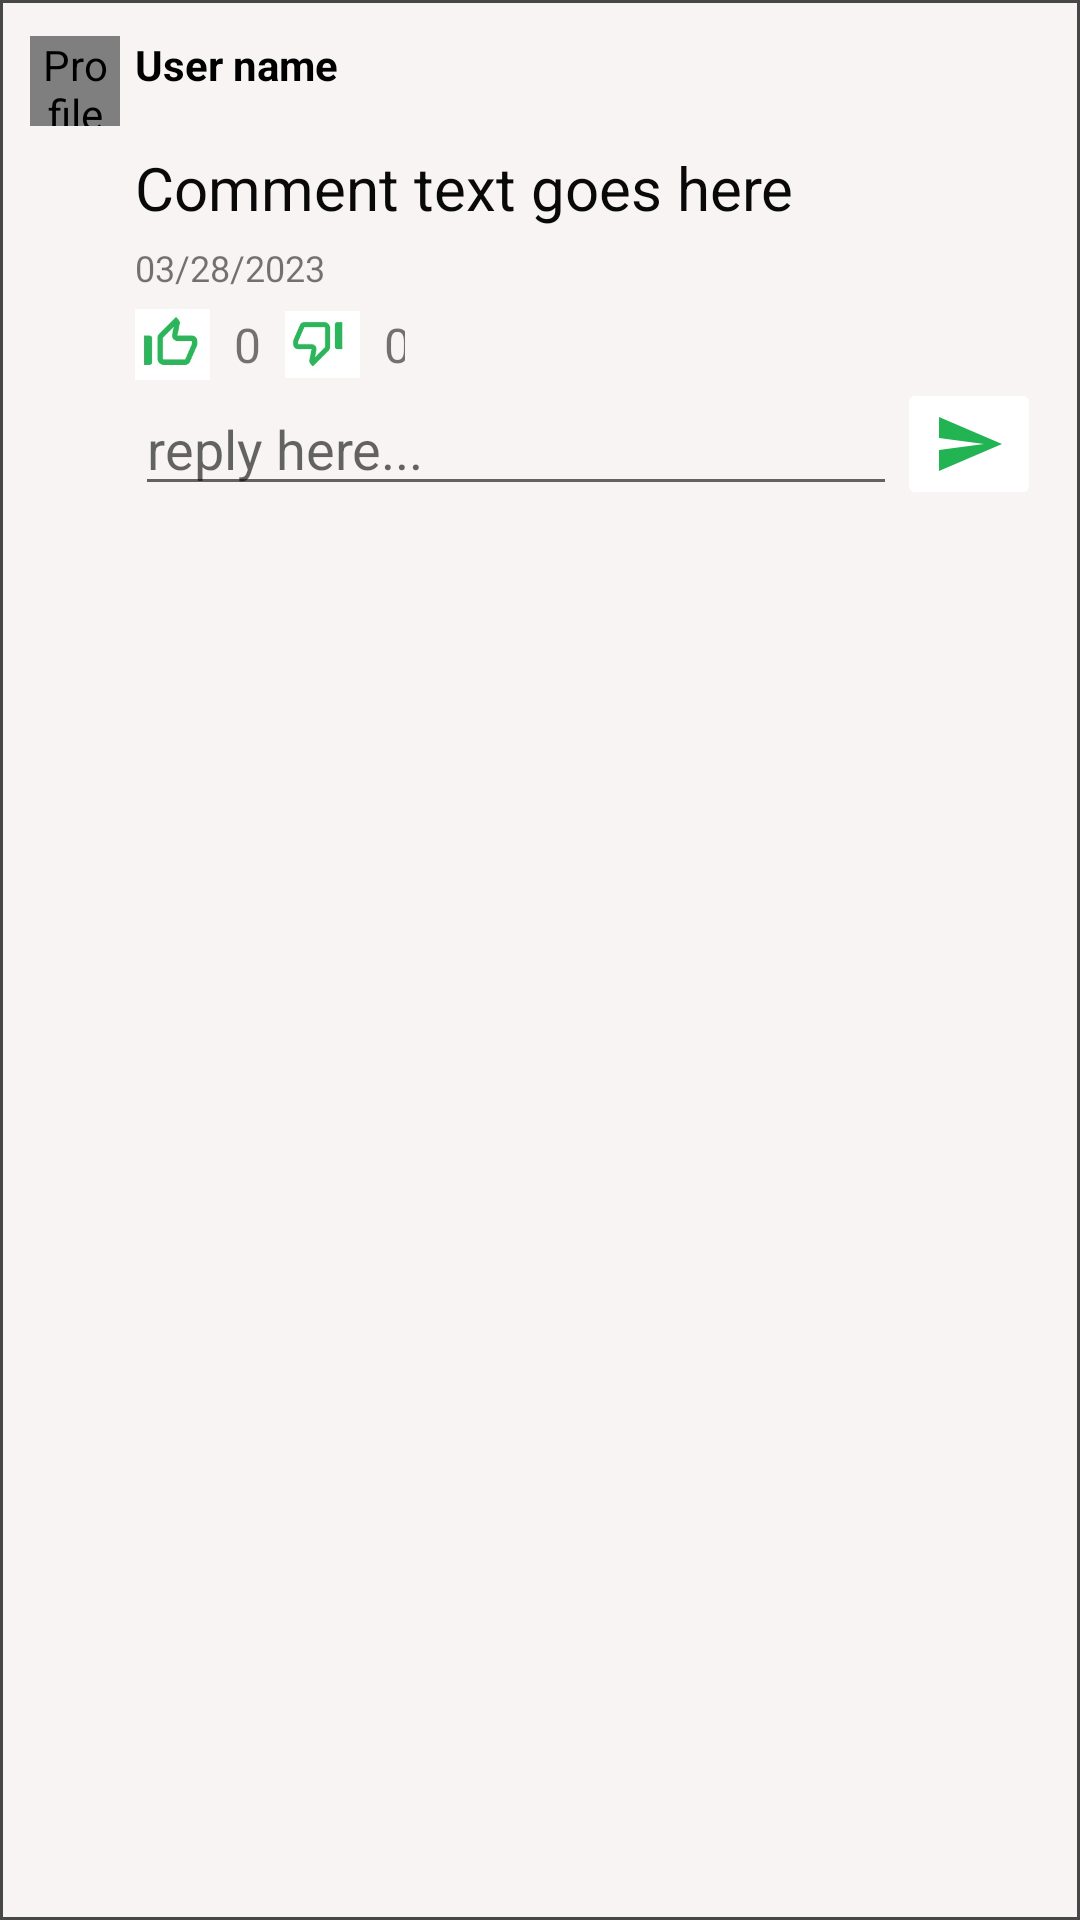

Where to tap for icons on this 1080px x 1920px app screen, as [x,y]:
send: [969,444]
Thumb down button: [322,344]
Thumb up button: [172,344]
